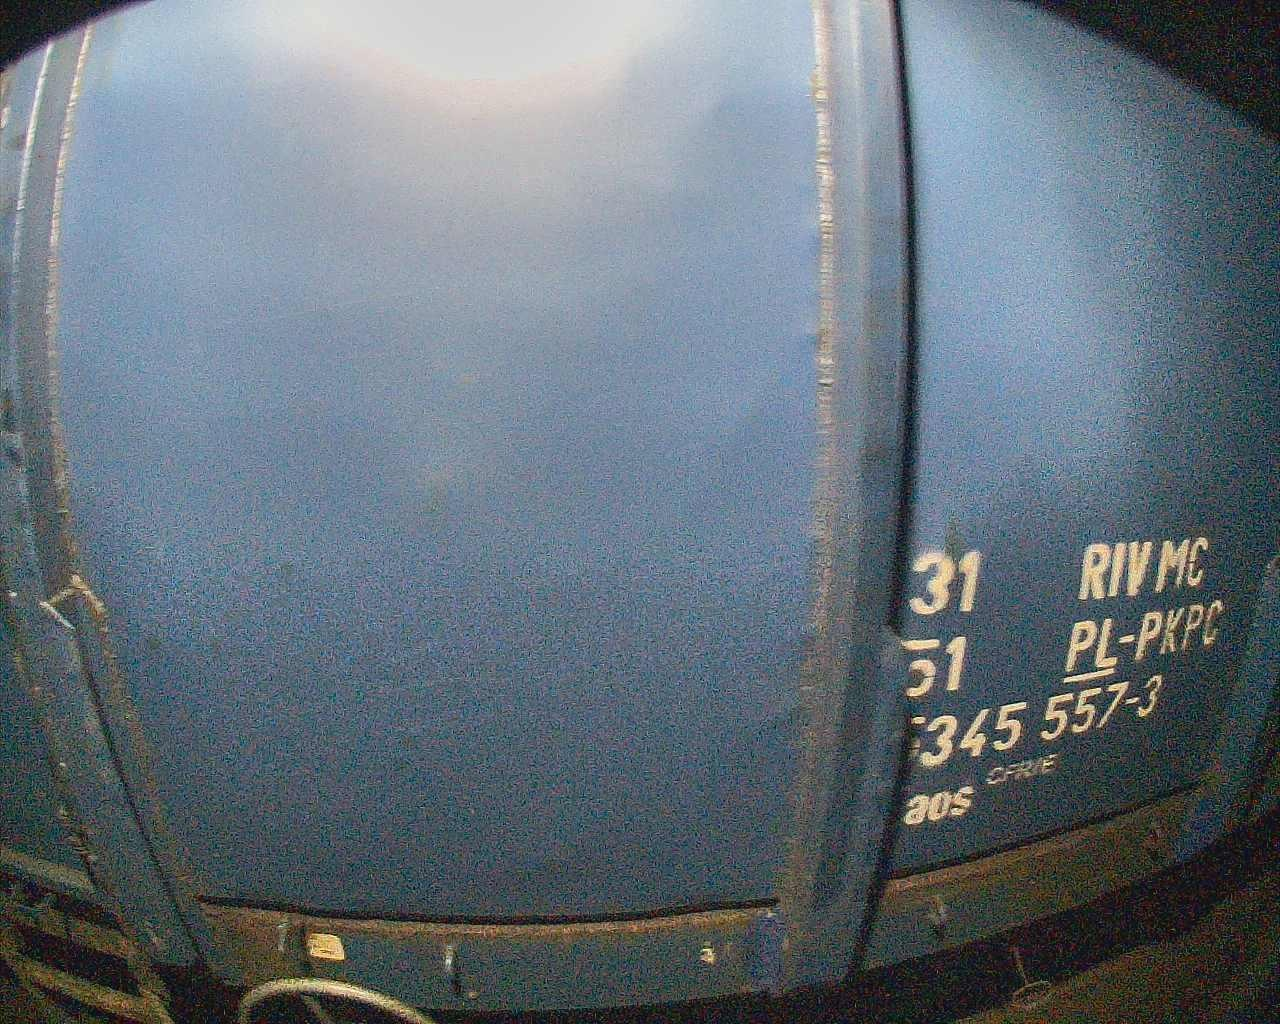UIC: (901, 534, 1227, 828)
